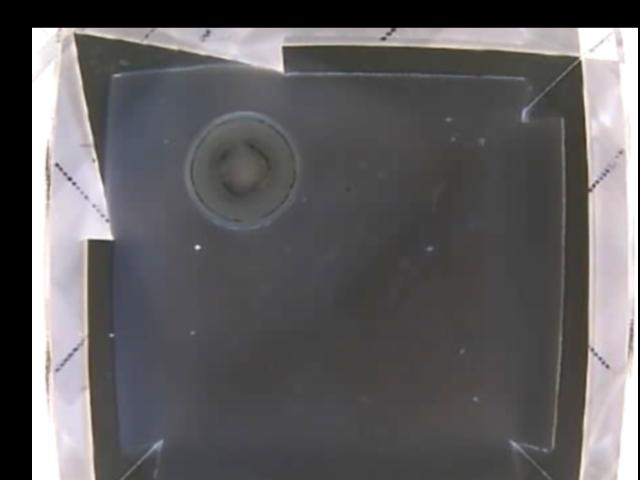Bottle: (186, 109, 300, 235)
